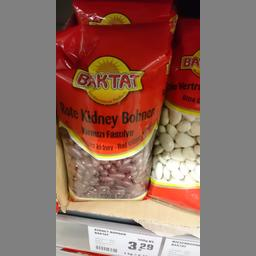beans: (60, 25, 172, 208)
